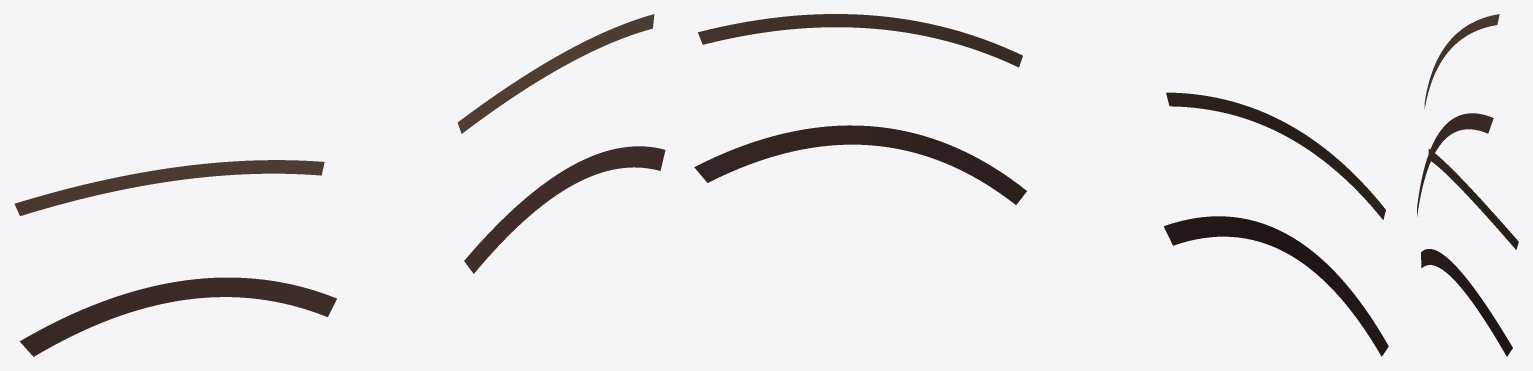
3 views of the same model, side by side, from view 1: azimuth 30°, elevation 25°; view 2: azimuth 150°, elevation 25°; view 3: azimuth 270°, elevation 25° (orthographic). The views are drawn at different scales.
Parts seen in each view (by area): view 1: Eye_Closed_-1, Eyebrow_-1, Eye_Closed_1, Eyebrow_1; view 2: Eye_Closed_1, Eye_Closed_-1, Eyebrow_1, Eyebrow_-1; view 3: Eye_Closed_1, Eye_Closed_-1, Eyebrow_1, Eyebrow_-1.
Boxes of the visible parts, x1=… form: Eye_Closed_-1: x1=20, y1=277, x2=336, y2=356; Eyebrow_-1: x1=14, y1=160, x2=324, y2=215; Eye_Closed_1: x1=464, y1=146, x2=665, y2=273; Eyebrow_1: x1=457, y1=14, x2=654, y2=133; Eye_Closed_1: x1=694, y1=125, x2=1026, y2=204; Eye_Closed_-1: x1=1164, y1=216, x2=1388, y2=356; Eyebrow_1: x1=698, y1=14, x2=1022, y2=67; Eyebrow_-1: x1=1166, y1=92, x2=1385, y2=219; Eye_Closed_1: x1=1421, y1=249, x2=1512, y2=356; Eye_Closed_-1: x1=1417, y1=113, x2=1493, y2=216; Eyebrow_1: x1=1428, y1=149, x2=1518, y2=249; Eyebrow_-1: x1=1424, y1=14, x2=1499, y2=108.
Bounding box in the file's own units: 0.3982 × 0.1109 × 0.0694.
